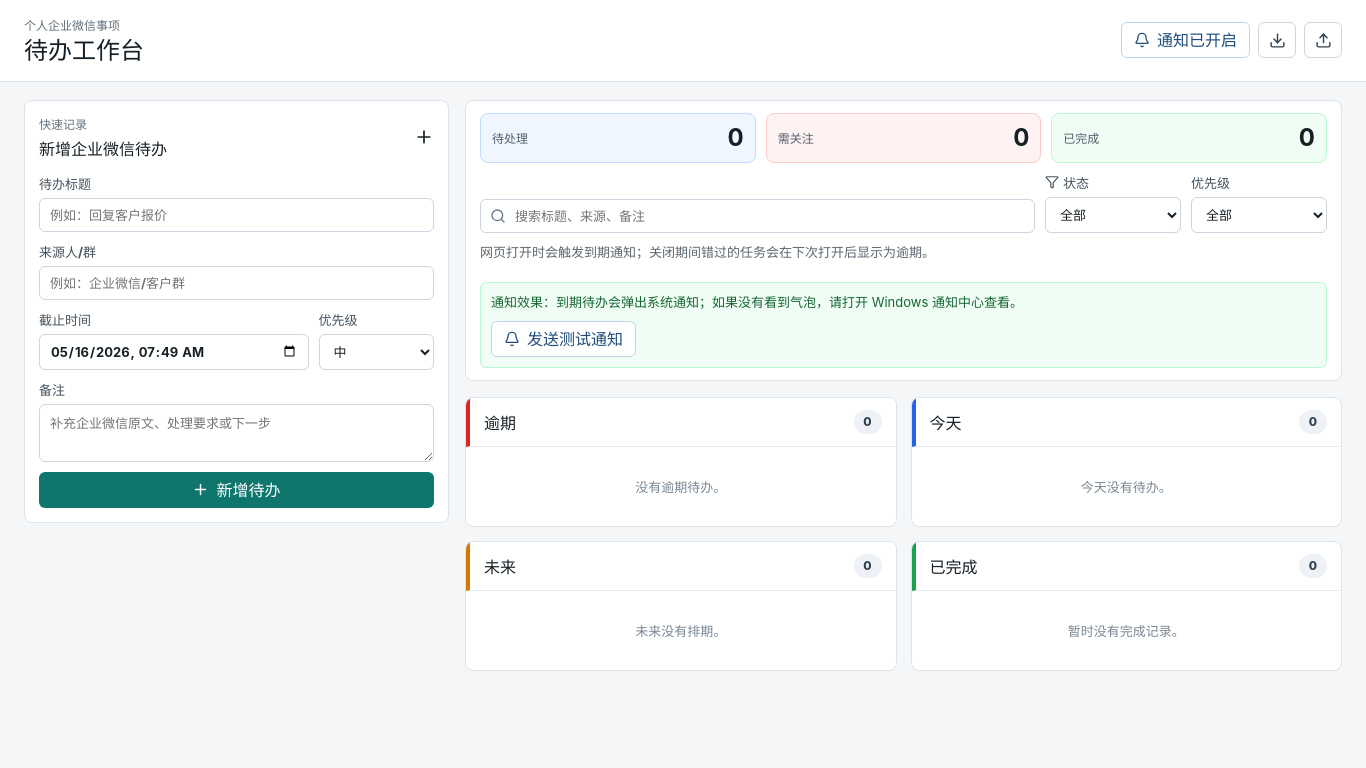
it: App › sends another test notification after notification permission is granted
The width and height of the screenshot is (1366, 768).
Step 1. Click the button "发送测试通知" → (564, 339), box [491,321,636,357]
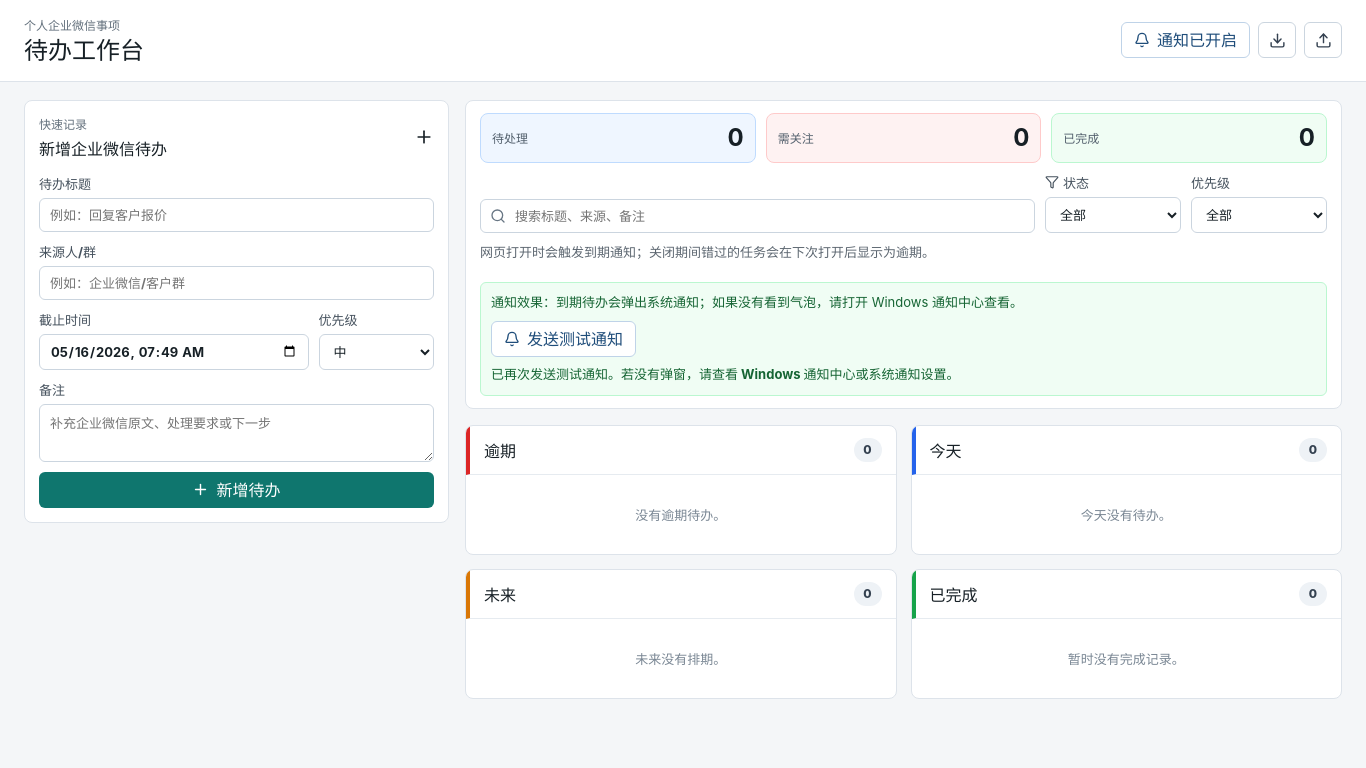
Check: the text "已再次发送测试通知。若没有弹窗，请查看 Windows 通知中心或系统通知设置。" is shown, box [491,366,960,382]
